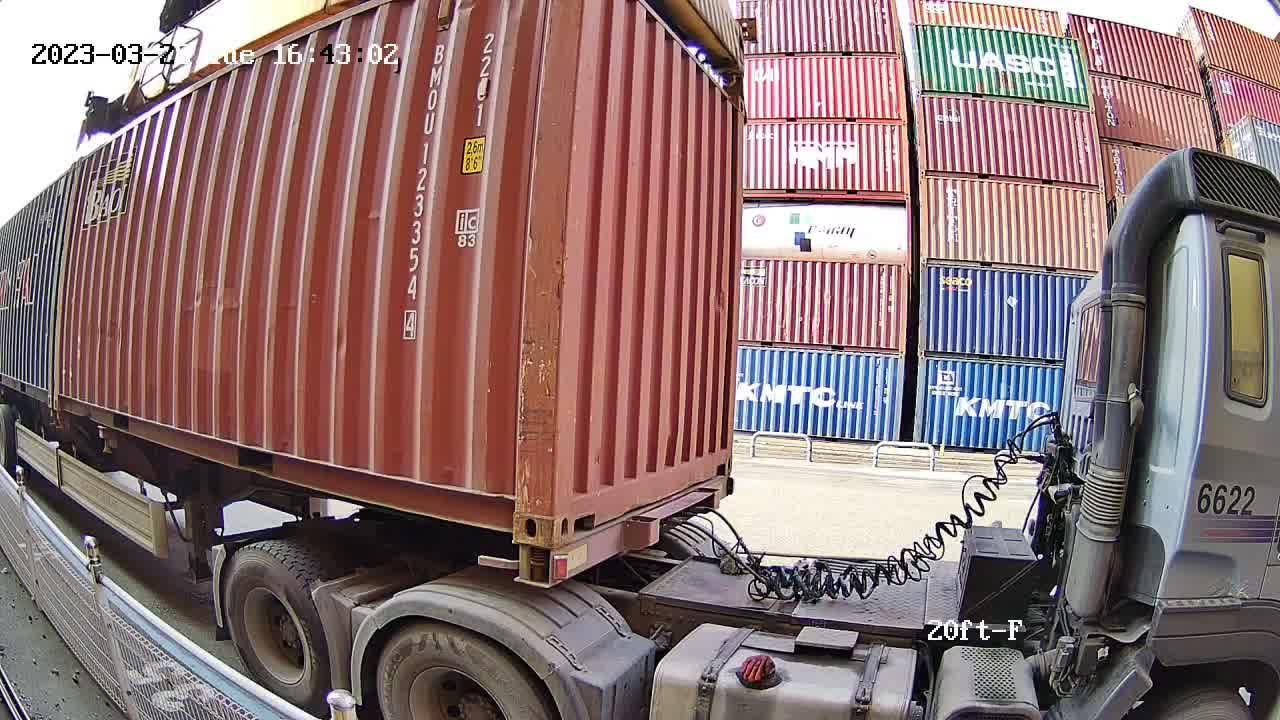Chassis: (511, 474, 736, 588)
Cone: (513, 543, 548, 584)
Hole_L: (553, 461, 602, 549)
Hole_R: (480, 462, 557, 549), (710, 433, 734, 480)
Tire: (223, 547, 332, 713), (377, 627, 547, 719)
